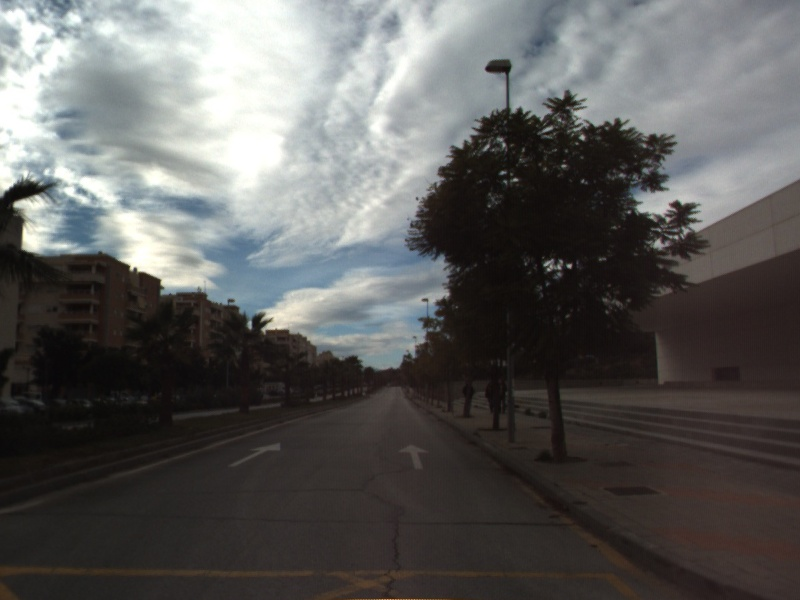STRAIGHT: (226, 441, 282, 469), (396, 442, 431, 471)
